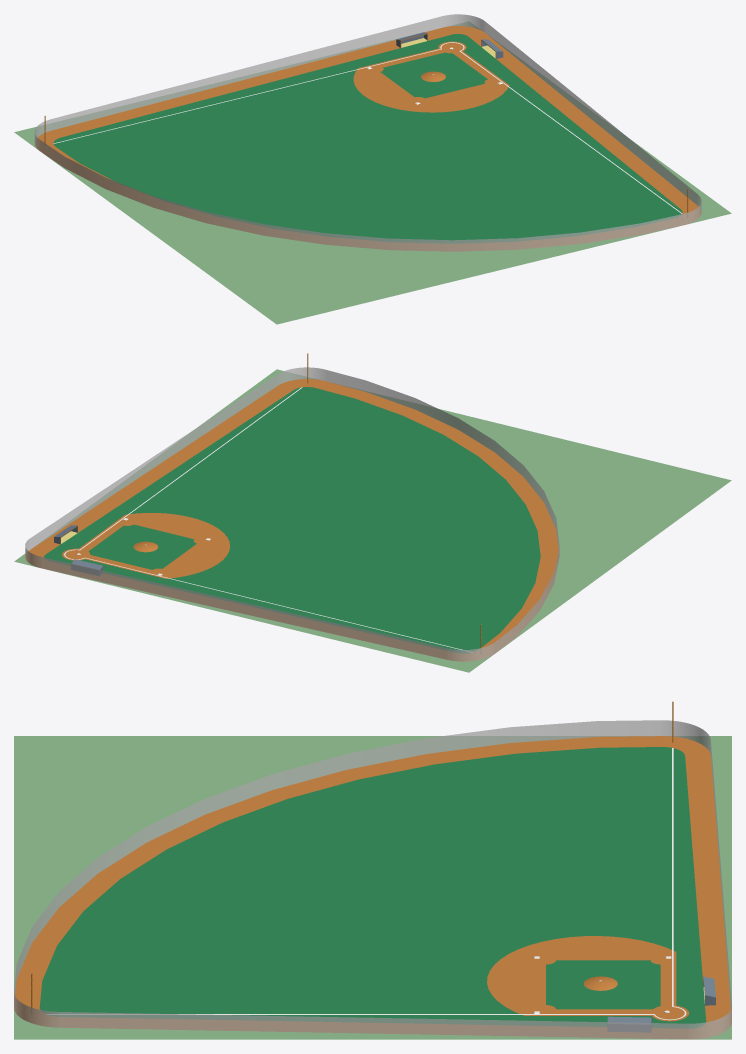
The model's file is 55_softball.dae.
The picture shows the model from 3 angles, top to bottom: view 1: azimuth 30°, elevation 25°; view 2: azimuth 150°, elevation 25°; view 3: azimuth 270°, elevation 25°; orthographic projection. The views are drawn at different scales.
Visible parts, largest first — view 1: SketchUp (×10); view 2: SketchUp (×10); view 3: SketchUp (×11).
Boxes of the visible parts, box(x1,y1,x2,y2) form: SketchUp (×10): box(14, 14, 731, 324); SketchUp (×10): box(25, 367, 731, 672); SketchUp (×11): box(14, 720, 731, 1039).
Bounding box in the file's own units: 130 × 130 × 8.14.
